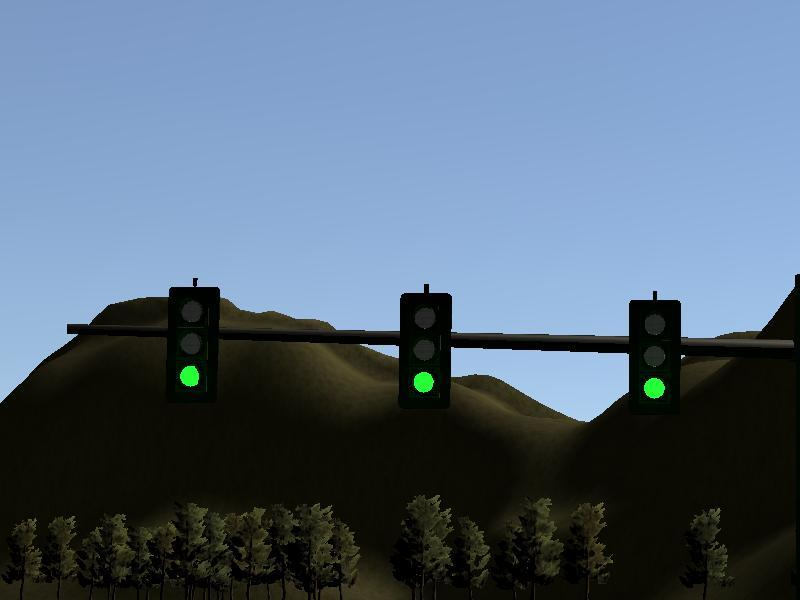Green: (166, 286, 219, 403), (399, 293, 451, 411), (628, 300, 680, 413)
